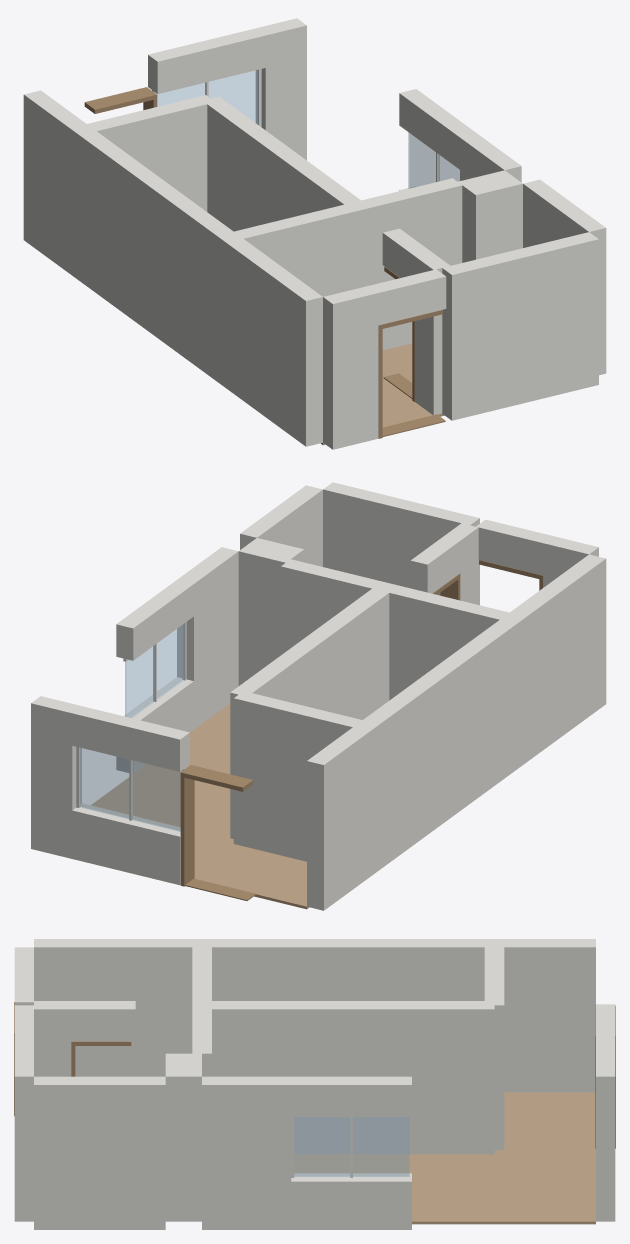
File: high_quality_architectural_1767.glb
The picture shows the model from 3 angles, top to bottom: view 1: azimuth 30°, elevation 25°; view 2: azimuth 150°, elevation 25°; view 3: azimuth 270°, elevation 25°; orthographic projection.
Parts seen in each view (by area): view 1: Wall_13_solid, Wall_1_solid, Wall_9_solid, Wall_3_solid, Wall_11_solid, Wall_4_solid, Wall_8_solid, Wall_0_solid, Wall_2_solid, Wall_5_solid, Wall_5_lintel, Wall_12_solid (+14 smaller); view 2: Wall_1_solid, Wall_9_solid, Wall_2_solid, Floor_1_living_room, Wall_3_solid, Wall_4_solid, Wall_13_solid, Wall_6_solid, Wall_0_solid, Wall_5_solid, Wall_5_sill, Window_1 (+15 smaller); view 3: Wall_3_solid, Floor_1_living_room, Wall_12_solid, Wall_1_solid, Wall_9_solid, Wall_4_solid, Wall_6_solid, Wall_6_sill, Window_4, Wall_6_lintel, Wall_13_solid, Wall_7_solid (+10 smaller).
Boxes of the visible parts, bbox=[...] form: Wall_13_solid: bbox=[442, 232, 598, 420]; Wall_1_solid: bbox=[74, 127, 238, 384]; Wall_9_solid: bbox=[221, 235, 322, 446]; Wall_3_solid: bbox=[205, 96, 365, 231]; Wall_11_solid: bbox=[323, 286, 378, 449]; Wall_4_solid: bbox=[23, 90, 91, 276]; Wall_8_solid: bbox=[358, 178, 462, 350]; Wall_0_solid: bbox=[234, 203, 362, 296]; Wall_2_solid: bbox=[87, 95, 215, 211]; Wall_5_solid: bbox=[255, 18, 306, 160]; Wall_5_lintel: bbox=[148, 28, 265, 93]; Wall_12_solid: bbox=[523, 179, 606, 375]; Wall_1_solid: bbox=[358, 616, 521, 872]; Wall_9_solid: bbox=[505, 554, 606, 765]; Wall_2_solid: bbox=[233, 691, 362, 861]; Floor_1_living_room: bbox=[91, 703, 309, 909]; Wall_3_solid: bbox=[230, 585, 393, 838]; Wall_4_solid: bbox=[307, 724, 374, 910]; Wall_13_solid: bbox=[323, 482, 479, 605]; Wall_6_solid: bbox=[177, 547, 238, 729]; Wall_0_solid: bbox=[381, 583, 509, 700]; Wall_5_solid: bbox=[31, 696, 81, 858]; Wall_5_sill: bbox=[72, 803, 180, 885]; Window_1: bbox=[79, 748, 181, 831]; Wall_3_solid: bbox=[202, 1001, 494, 1154]; Floor_1_living_room: bbox=[294, 1092, 595, 1224]; Wall_12_solid: bbox=[34, 1076, 165, 1229]; Wall_1_solid: bbox=[202, 939, 494, 1000]; Wall_9_solid: bbox=[34, 939, 201, 1076]; Wall_4_solid: bbox=[494, 939, 595, 1092]; Wall_6_solid: bbox=[202, 1076, 291, 1229]; Wall_6_sill: bbox=[291, 1173, 411, 1229]; Window_4: bbox=[294, 1117, 409, 1176]; Wall_6_lintel: bbox=[291, 1076, 411, 1116]; Wall_13_solid: bbox=[14, 1005, 33, 1221]; Wall_7_solid: bbox=[182, 1053, 201, 1221].
Size of the model in its own units: 5.82 by 2.75 by 10.16.
